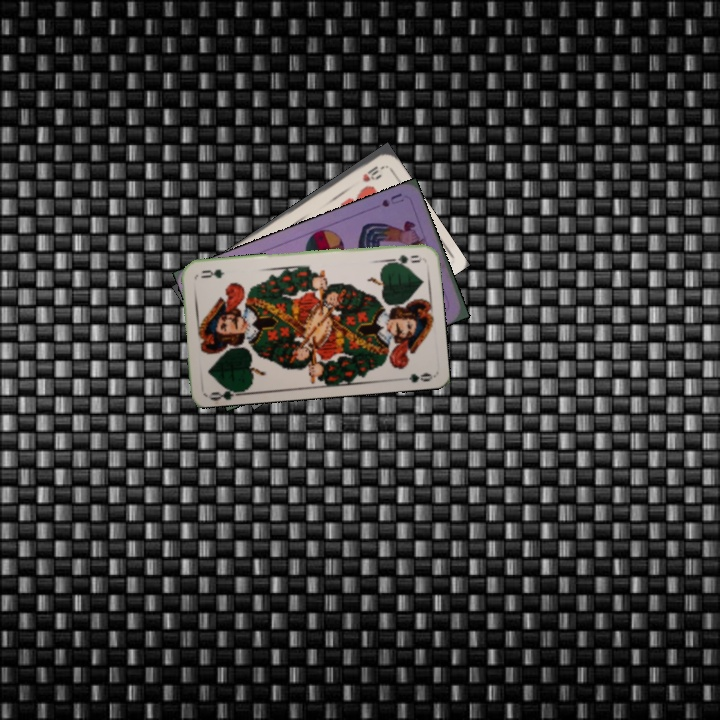GO: (205, 381, 246, 402), (383, 251, 424, 266)
H10: (358, 162, 385, 184)
SU: (378, 189, 407, 210)
